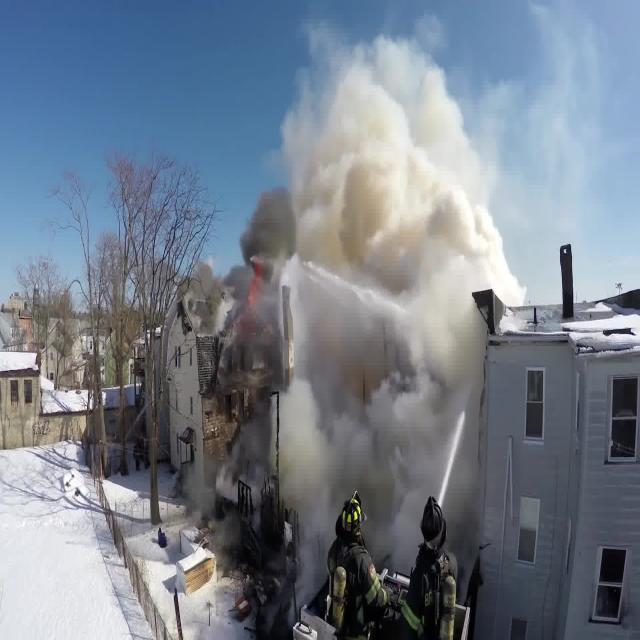Smoke: (203, 0, 527, 598)
